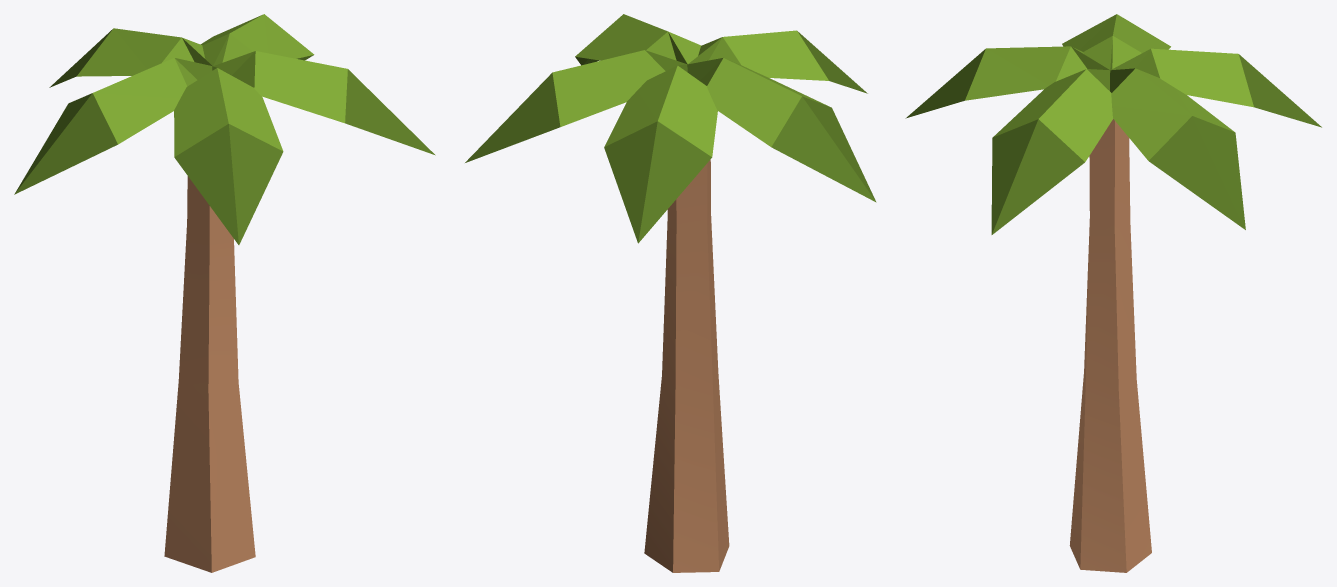
The model's file is tree_08.FBX.
3 views of the same model, side by side, from view 1: azimuth 30°, elevation 25°; view 2: azimuth 150°, elevation 25°; view 3: azimuth 270°, elevation 25° (orthographic).
Parts seen in each view (by area): view 1: Object172; view 2: Object172; view 3: Object172.
Boxes of the visible parts, bbox=[...] form: Object172: bbox=[14, 14, 435, 572]; Object172: bbox=[465, 14, 876, 572]; Object172: bbox=[905, 14, 1321, 572].
Bounding box in the file's own units: 1059 × 1428 × 1075.
